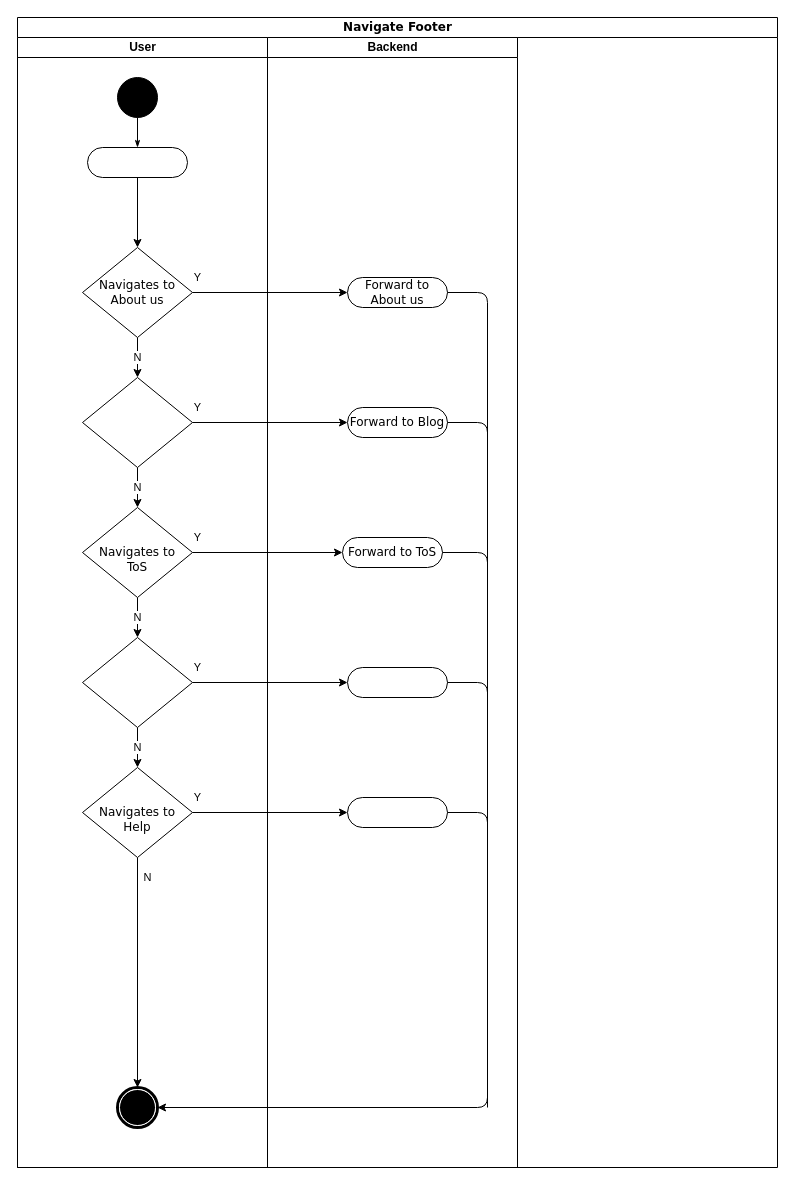
Image size: 795x1185. Some labels were removed from this diagram. The shapes that lost their labels are listed below. From the top down, each one's centre as x and y in pixels, then its label:
At (x=137, y=162): "User navigates to Footer".
At (x=137, y=422): "Navigates to Blog".
At (x=137, y=682): "Navigates to GitLab".
At (x=397, y=682): "Forward to GitLab".
At (x=397, y=812): "Forward to Help".
